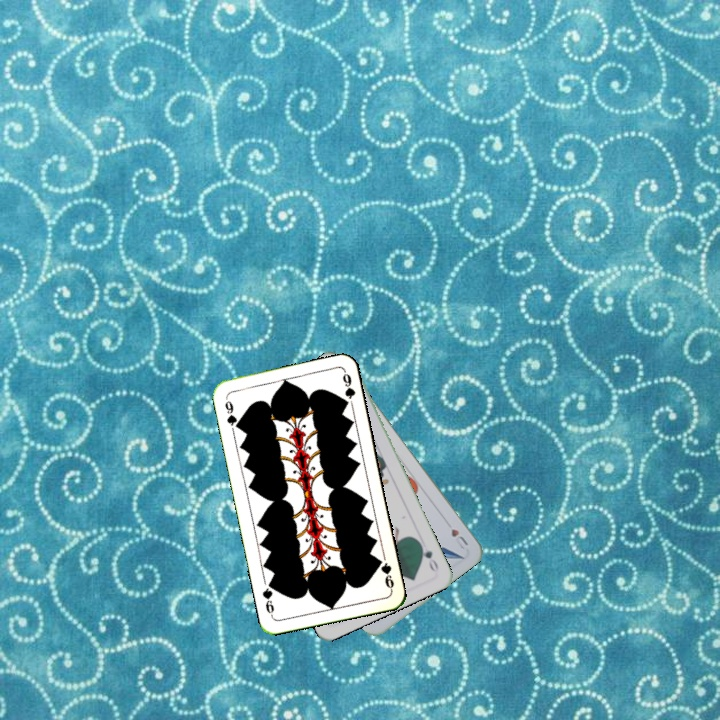G9: (373, 554, 397, 593), (221, 393, 242, 434)
GO: (415, 538, 441, 575)
HU: (447, 525, 471, 552)
